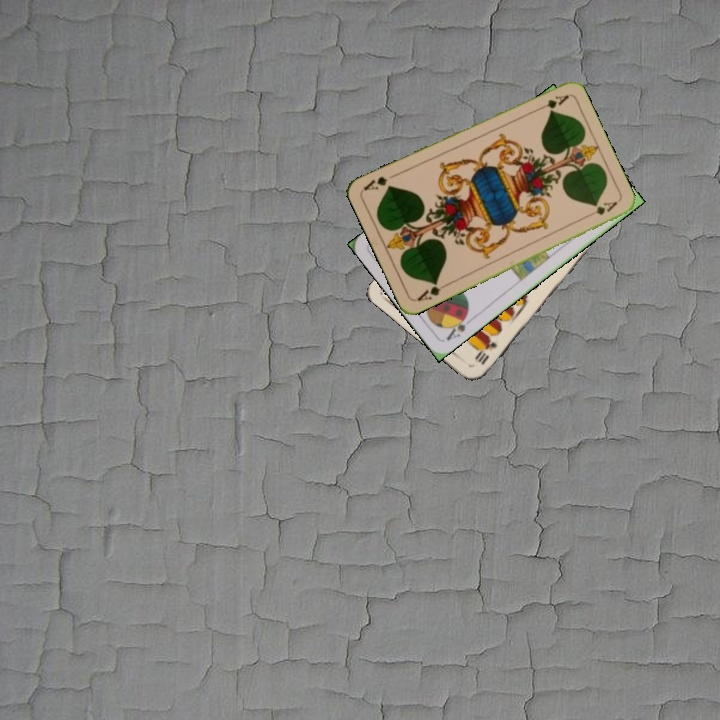E10: (470, 331, 500, 367)
GA: (413, 277, 451, 304), (532, 90, 571, 114)
SA: (442, 309, 471, 344)
